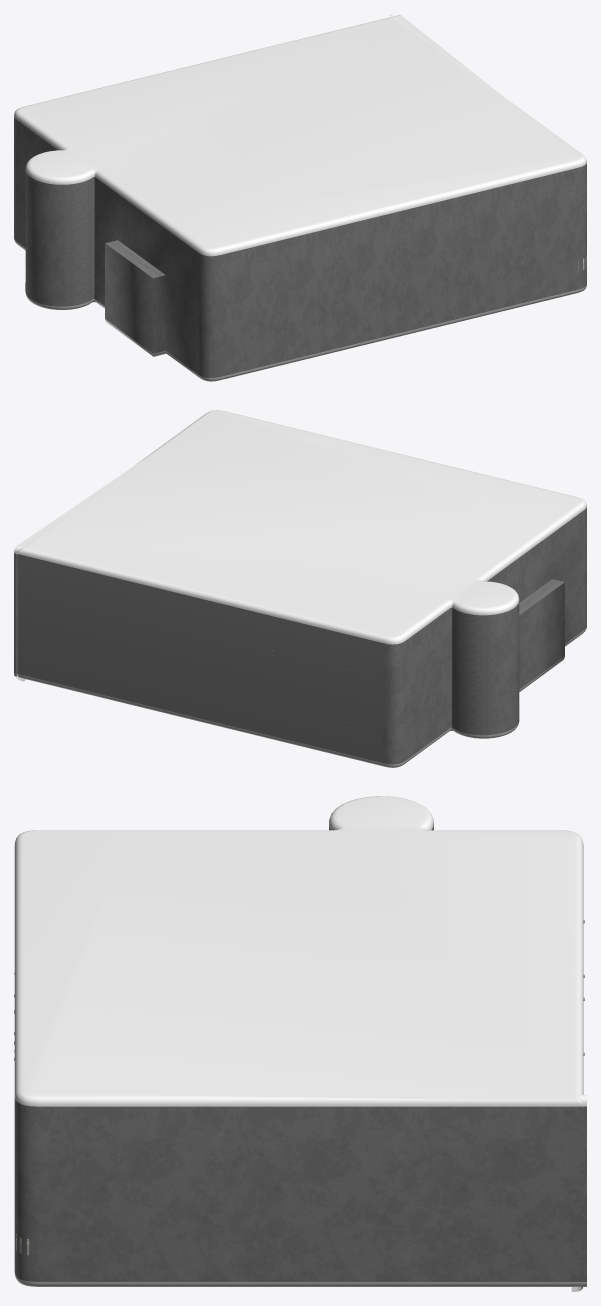
File: futuristic Laboratory 1.fbx
3 renders of one model, top to bottom at view 1: azimuth 30°, elevation 25°; view 2: azimuth 150°, elevation 25°; view 3: azimuth 270°, elevation 25°, orthographic. The views are drawn at different scales.
Parts seen in each view (by area): view 1: Box124; view 2: Box124; view 3: Box124.
Boxes of the visible parts, x1,y1,x2,y2 form: Box124: (14,14,586,381); Box124: (14,410,586,767); Box124: (14,796,586,1291).
Bounding box in the file's own units: 11.36 × 3.28 × 8.94.
